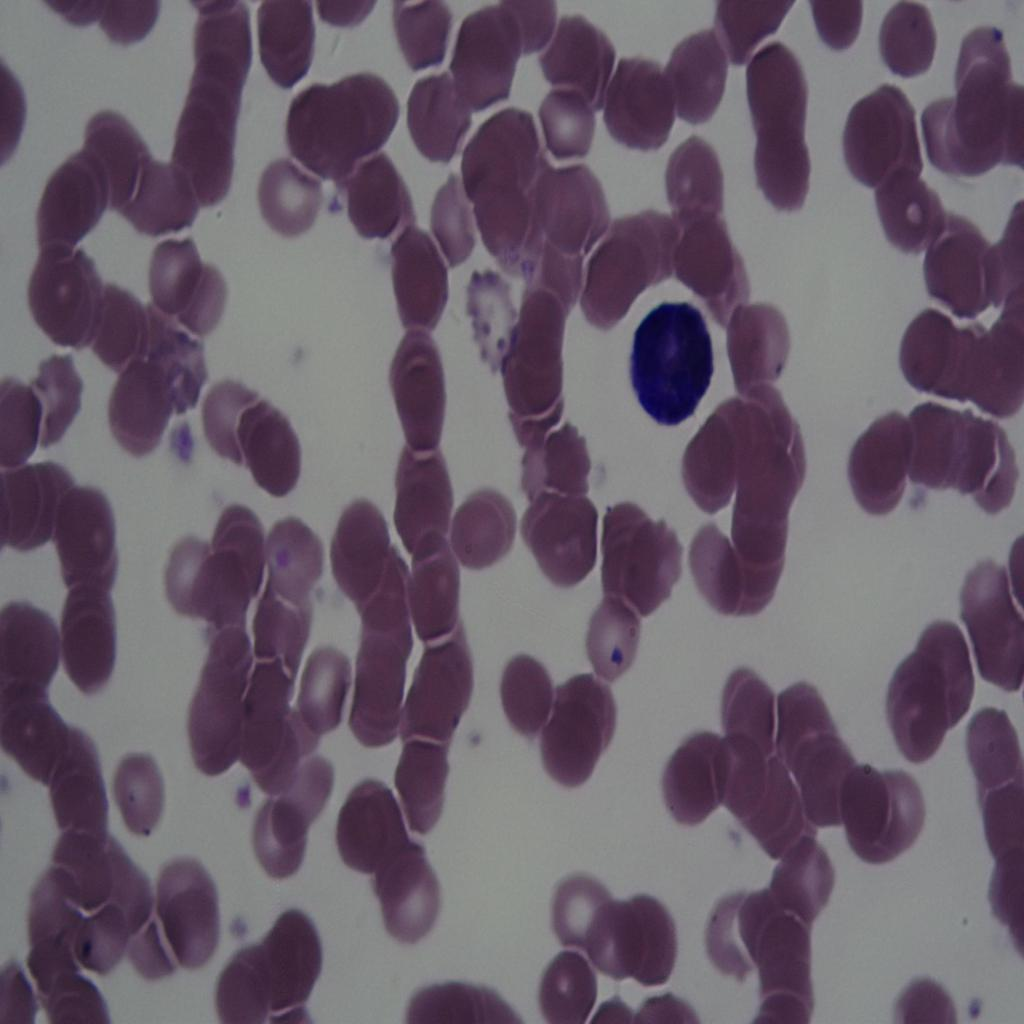Myeoblast: (628, 284, 713, 433)
Platelet: (228, 768, 258, 810), (605, 639, 627, 670), (320, 180, 338, 217)
